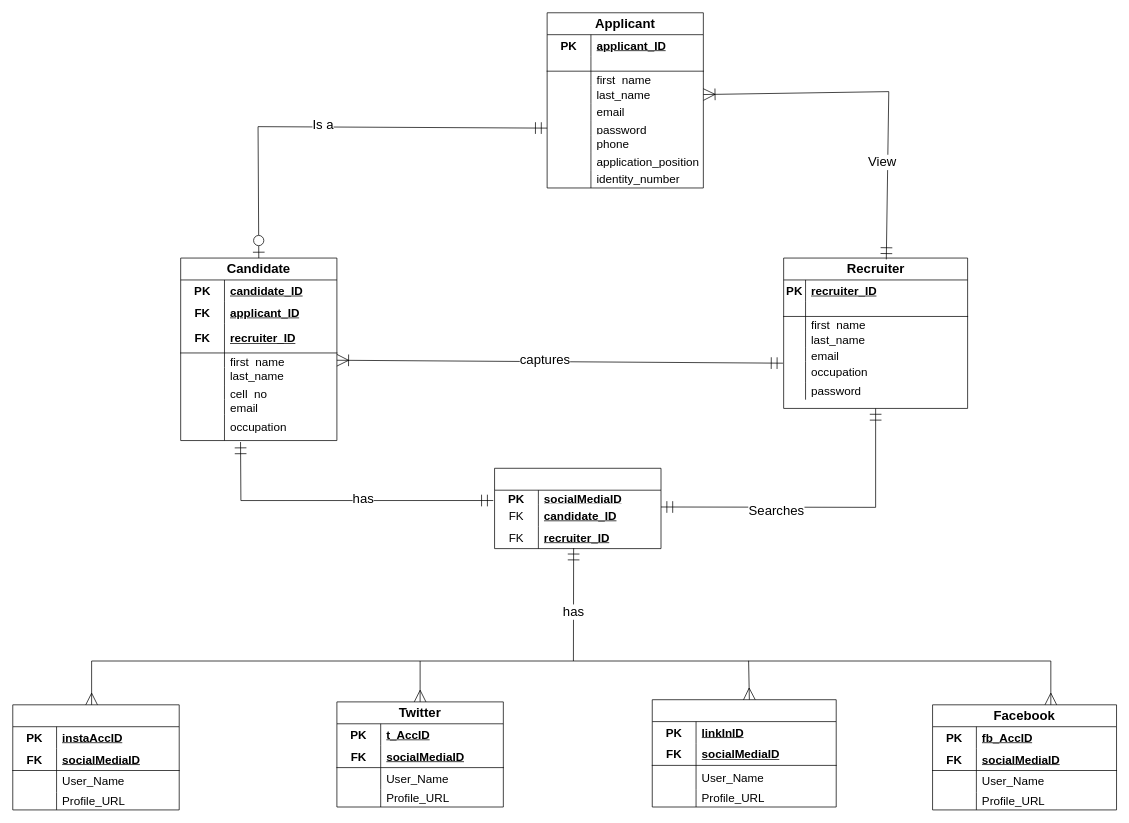
The diagram is 1129 pixels wide and 823 high, and some of its shapes have lost their labels. The shapes that lost their labels are listed below. From the top down, each one's box as (x1, y1, x2, y2) in pixels, then its label:
(494, 468, 661, 549): SocialMediaProfile
(12, 704, 179, 810): Instagram
(652, 699, 836, 807): LinkdedIn
